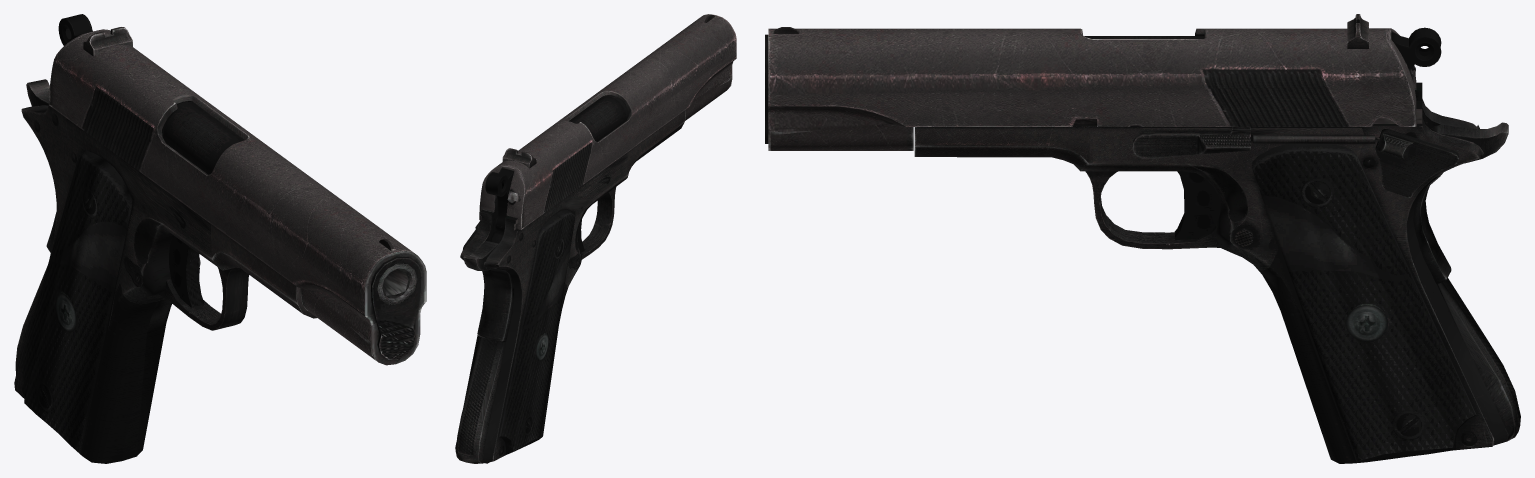
File: Pistol.fbx
3 renders of one model, left to right at view 1: azimuth 30°, elevation 25°; view 2: azimuth 150°, elevation 25°; view 3: azimuth 270°, elevation 25°, orthographic. The views are drawn at different scales.
Visible parts, largest first — view 1: Body, Slide, Trigger, Hammer; view 2: Body, Slide, Hammer; view 3: Body, Slide, Trigger, Hammer.
Boxes of the visible parts, <box> form: Body: <box>14,79,417,463</box>; Slide: <box>49,27,426,365</box>; Trigger: <box>169,236,203,307</box>; Hammer: <box>58,14,92,45</box>; Body: <box>455,95,685,463</box>; Slide: <box>479,14,736,229</box>; Hammer: <box>485,168,514,232</box>; Body: <box>914,36,1520,463</box>; Slide: <box>765,14,1416,150</box>; Trigger: <box>1174,171,1220,240</box>; Hammer: <box>1391,27,1441,71</box>.
Size of the model in its own units: 3.21 by 15.94 by 25.34.
Materials: 1 (1 with a texture image).
